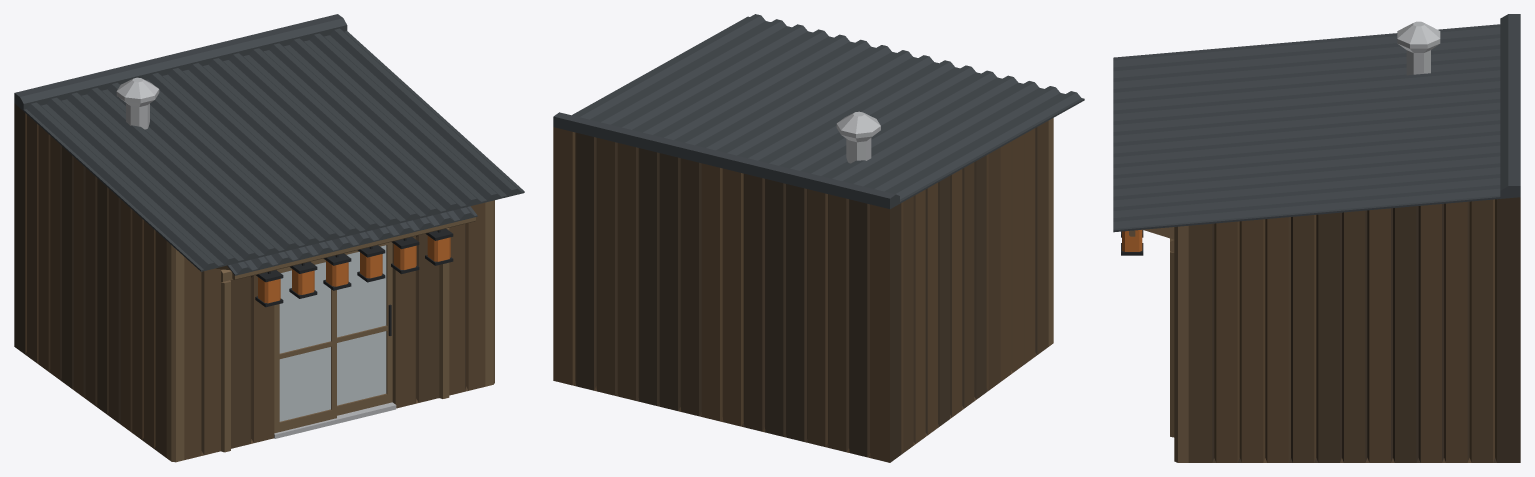
File: alley-bar-hut-3e41f8.glb
The picture shows the model from 3 angles, left to right: view 1: azimuth 30°, elevation 25°; view 2: azimuth 150°, elevation 25°; view 3: azimuth 270°, elevation 25°; orthographic projection. The views are drawn at different scales.
Visible parts, largest first — view 1: bar-hut-shell, door-leaf; view 2: bar-hut-shell; view 3: bar-hut-shell.
Boxes of the visible parts, x1=… form: bar-hut-shell: x1=14, y1=14, x2=524, y2=462; door-leaf: x1=337, y1=242, x2=392, y2=415; bar-hut-shell: x1=553, y1=14, x2=1084, y2=462; bar-hut-shell: x1=1113, y1=14, x2=1520, y2=462.
Bounding box in the file's own units: 4 × 3.34 × 4.
